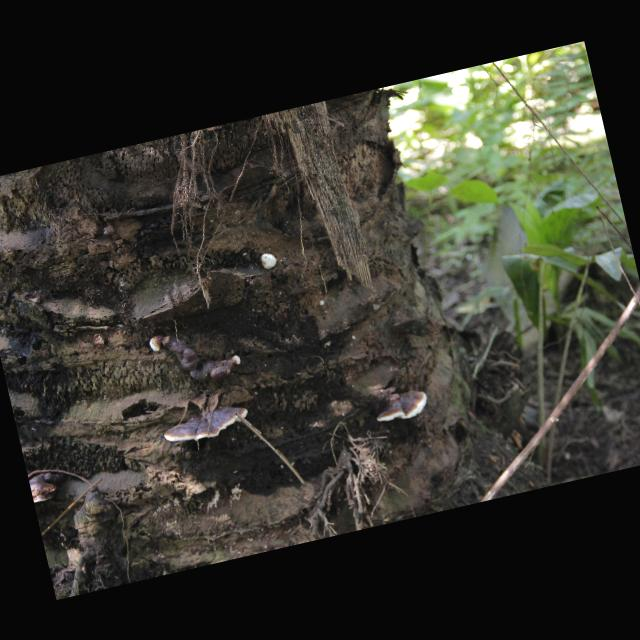ganoderma: (162, 322, 237, 392), (160, 401, 253, 450), (372, 384, 433, 428), (29, 469, 68, 504)
primordium: (260, 251, 279, 271), (148, 335, 164, 355), (232, 354, 244, 367), (319, 300, 326, 307)
